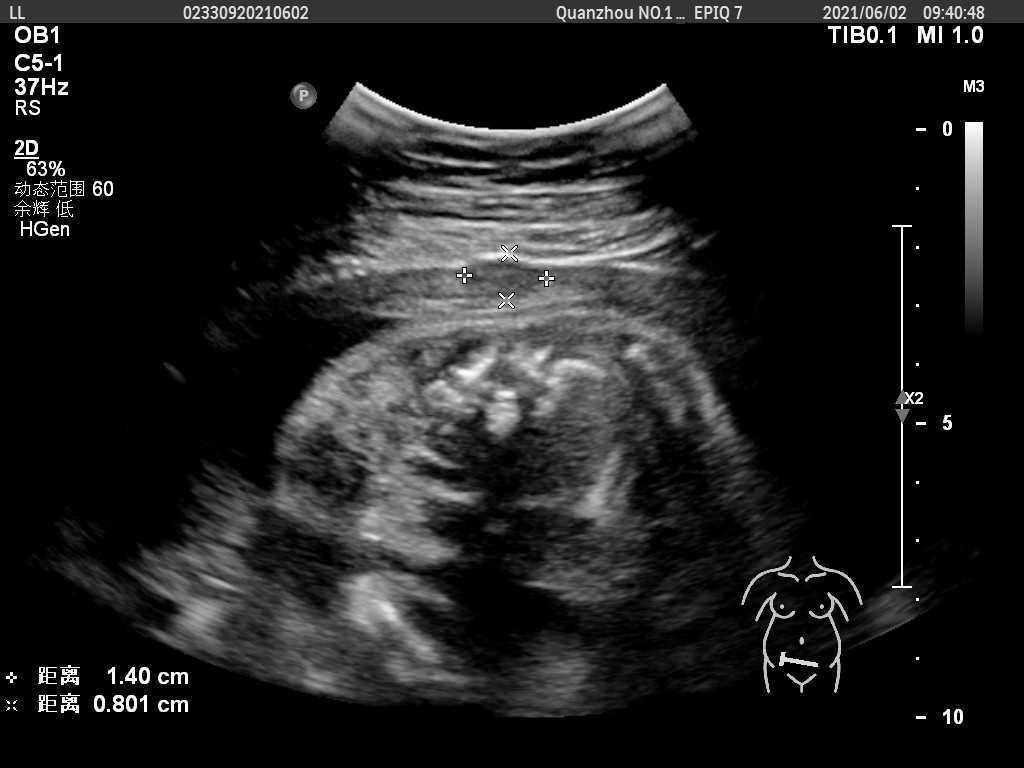肌瘤: (465, 261, 540, 296)
